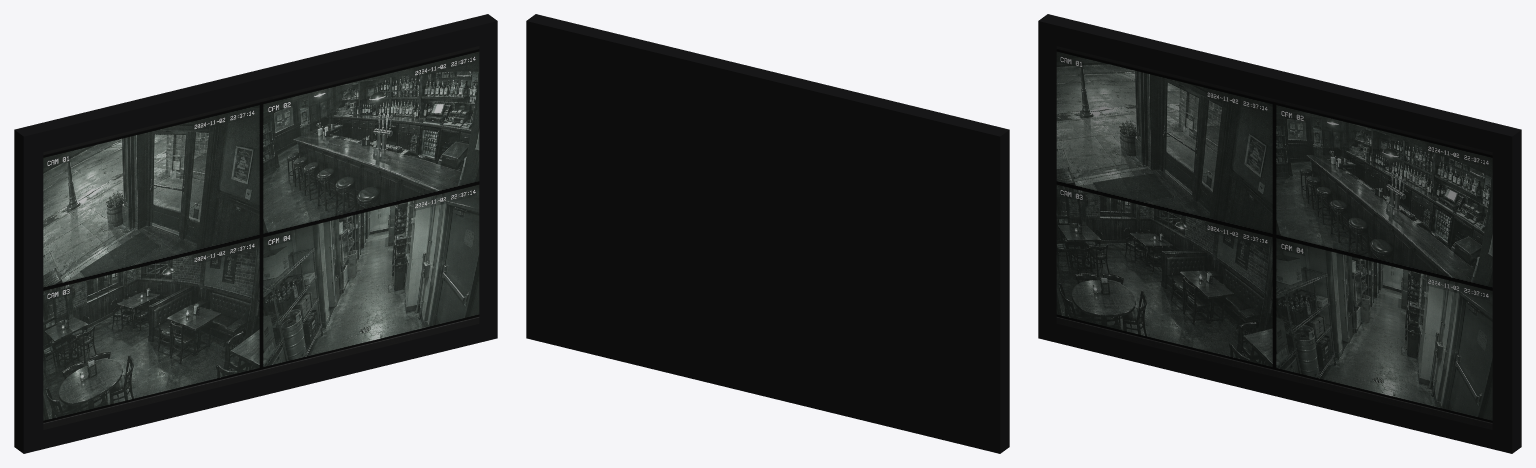
The model's file is monitor_cameras.glb.
3 renders of one model, left to right at view 1: azimuth 30°, elevation 25°; view 2: azimuth 150°, elevation 25°; view 3: azimuth 330°, elevation 25°, orthographic.
Parts seen in each view (by area): view 1: Monitor_Cameras_Tela, Monitor_Cameras; view 2: Monitor_Cameras; view 3: Monitor_Cameras_Tela, Monitor_Cameras.
Part boxes in pixels (box(x1,y1,x2,y2)): Monitor_Cameras_Tela: box(43, 46, 479, 429); Monitor_Cameras: box(14, 14, 497, 453); Monitor_Cameras: box(526, 14, 1009, 453); Monitor_Cameras_Tela: box(1056, 46, 1492, 429); Monitor_Cameras: box(1038, 14, 1521, 453).
Bounding box in the file's own units: 0.5 × 0.32 × 0.0187.
Materials: 2 (1 with a texture image).
